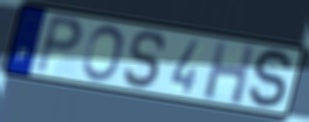4: (168, 39, 200, 95)
H: (201, 39, 257, 108)
O: (80, 23, 126, 83)
P: (33, 12, 86, 77)
S: (246, 48, 295, 111), (121, 28, 169, 91)
